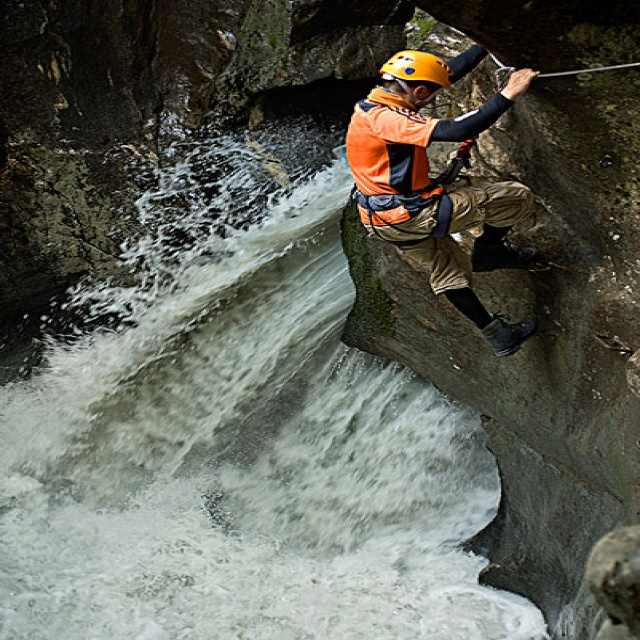Helmet: (362, 27, 468, 123)
Reflective vest: (341, 88, 450, 238)
